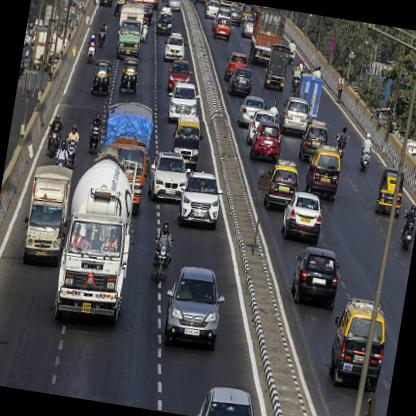car: (159, 264, 230, 354), (328, 295, 392, 391), (290, 245, 342, 310), (176, 169, 226, 231), (143, 148, 190, 205), (280, 190, 326, 245), (191, 383, 269, 415), (262, 158, 300, 210), (304, 148, 343, 197), (163, 80, 200, 125), (297, 119, 330, 164), (249, 119, 284, 161), (277, 96, 311, 138), (236, 94, 264, 129), (166, 56, 194, 90), (222, 50, 250, 83), (226, 66, 252, 98), (162, 31, 188, 62), (212, 16, 234, 42)
motorcycle: (150, 220, 178, 282), (42, 111, 64, 159), (397, 201, 415, 255), (85, 109, 105, 156), (61, 122, 81, 168), (358, 130, 375, 172), (335, 124, 350, 158), (86, 32, 98, 62), (98, 18, 110, 46)
truck: (52, 152, 140, 332), (90, 95, 158, 214), (245, 4, 288, 68), (114, 3, 145, 60)
